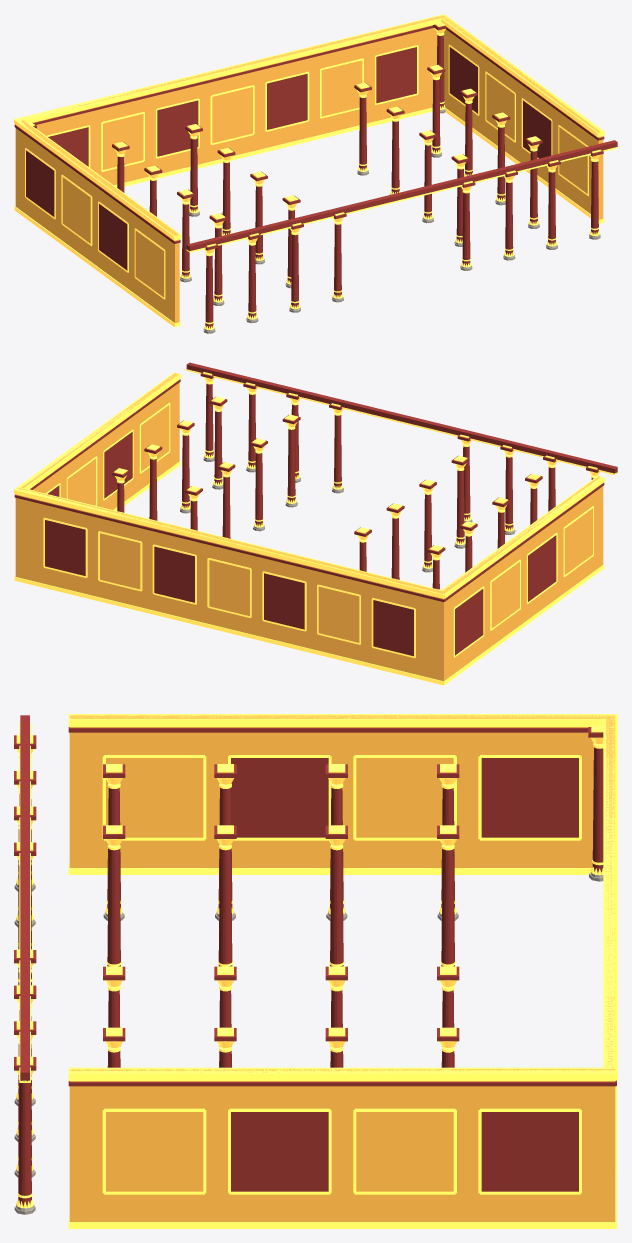
The model's file is hall-body.glb.
3 renders of one model, top to bottom at view 1: azimuth 30°, elevation 25°; view 2: azimuth 150°, elevation 25°; view 3: azimuth 270°, elevation 25°, orthographic. The views are drawn at different scales.
Parts seen in each view (by area): view 1: hall-body; view 2: hall-body; view 3: hall-body.
Boxes of the visible parts, x1=… form: hall-body: x1=14, y1=14, x2=617, y2=333; hall-body: x1=14, y1=362, x2=617, y2=685; hall-body: x1=14, y1=714, x2=617, y2=1228.
Bounding box in the file's own units: 76.5 × 15.41 × 54.25.
